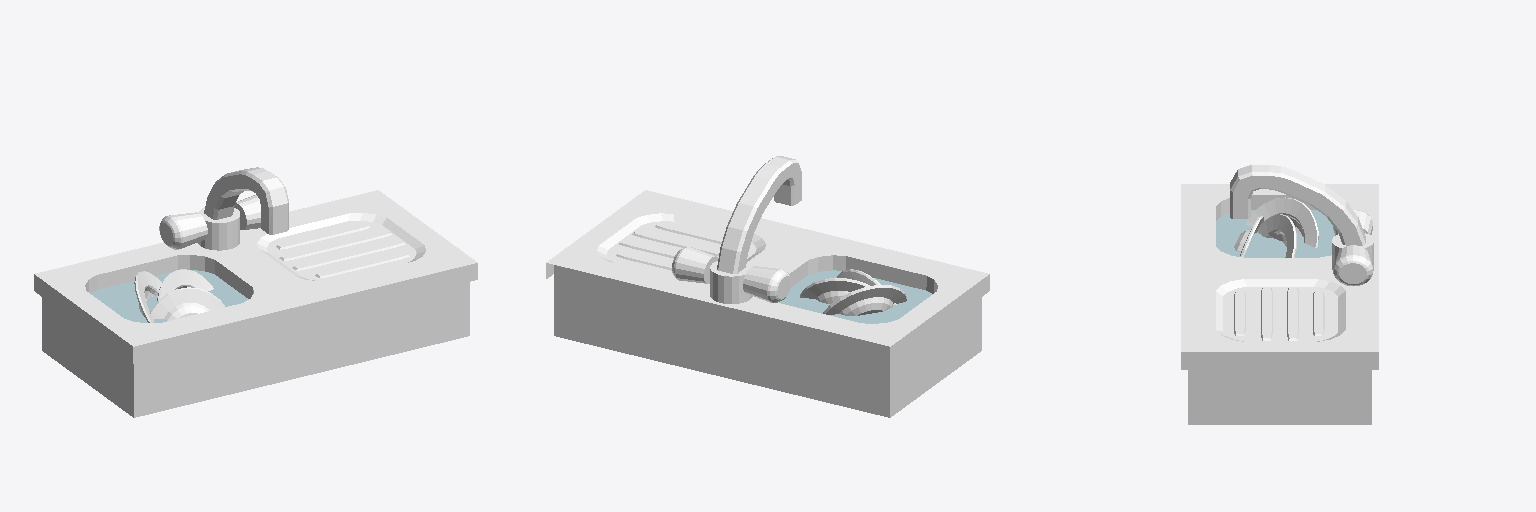
3 views of the same model, side by side, from view 1: azimuth 30°, elevation 25°; view 2: azimuth 150°, elevation 25°; view 3: azimuth 270°, elevation 25° (orthographic).
Visible parts, largest first — view 1: Sink2, Water, DirtyPlate_ncl1_2, DirtyPlate_ncl1_1, DirtyPlate; view 2: Sink2, Water, DirtyPlate, DirtyPlate_ncl1_1; view 3: Sink2, Water, DirtyPlate, DirtyPlate_ncl1_1.
Boxes of the visible parts, x1,y1,x2,y2 form: Sink2: [34, 167, 477, 417]; Water: [90, 270, 248, 322]; DirtyPlate_ncl1_2: [150, 287, 224, 320]; DirtyPlate_ncl1_1: [157, 269, 213, 300]; DirtyPlate: [134, 271, 161, 322]; Sink2: [546, 156, 989, 417]; Water: [779, 270, 932, 323]; DirtyPlate: [823, 285, 906, 315]; DirtyPlate_ncl1_1: [800, 278, 869, 303]; Sink2: [1181, 165, 1378, 424]; Water: [1216, 210, 1334, 257]; DirtyPlate: [1245, 197, 1318, 247]; DirtyPlate_ncl1_1: [1257, 214, 1296, 257].
Bounding box in the file's own units: 2.4 × 1.16 × 1.2.
Materials: 4 (1 with a texture image).